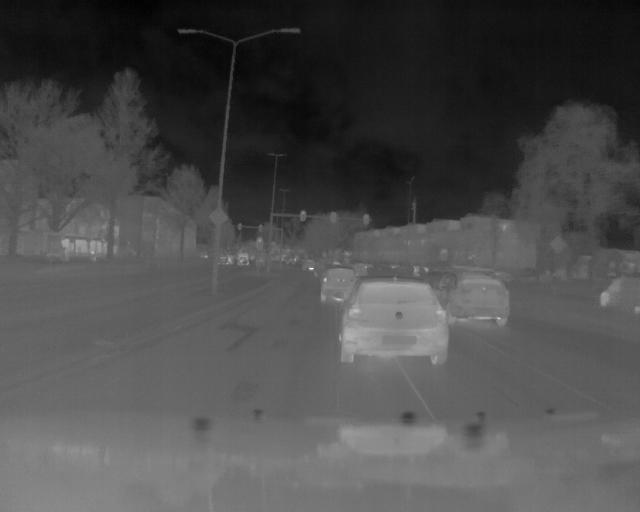car: (338, 275, 450, 365), (436, 271, 512, 328), (318, 265, 360, 306)
